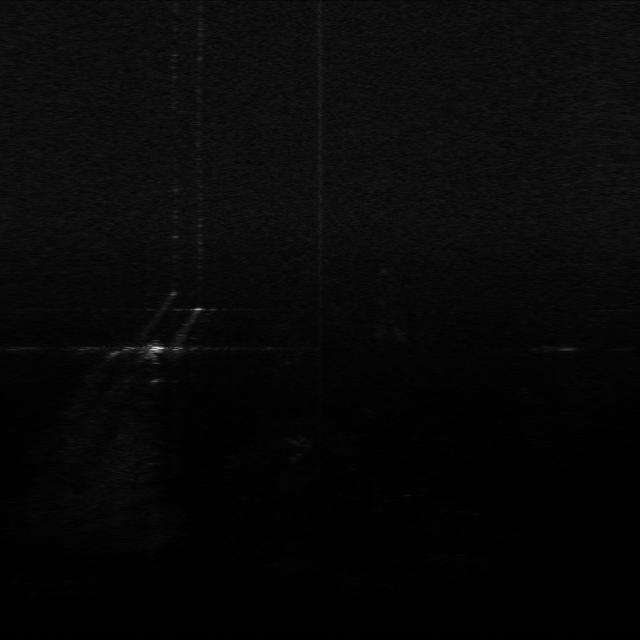rov: (146, 340, 166, 357)
